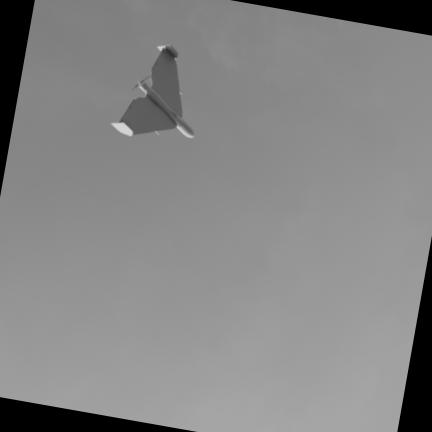Shahed: (110, 43, 195, 138)
